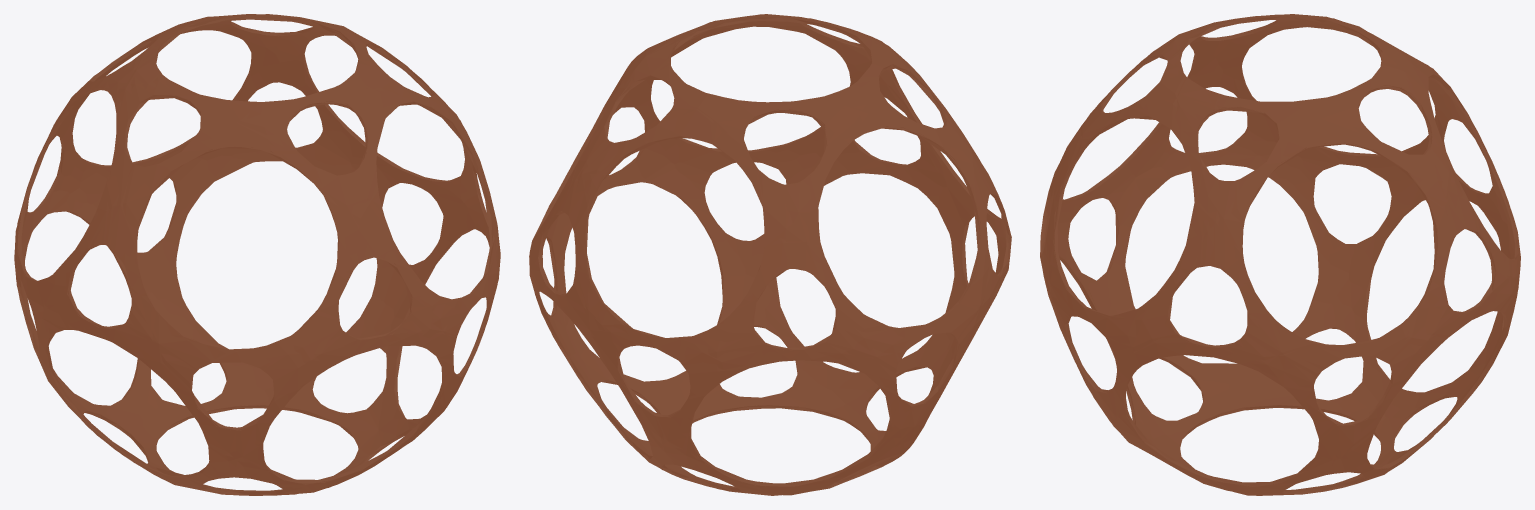
Rendered from planet.glb.
3 renders of one model, left to right at view 1: azimuth 30°, elevation 25°; view 2: azimuth 150°, elevation 25°; view 3: azimuth 270°, elevation 25°, orthographic.
Visible parts, largest first — view 1: Icosphere.008; view 2: Icosphere.008; view 3: Icosphere.008.
Boxes of the visible parts, left/top/right/bottom form: Icosphere.008: left=14, top=14, right=500, bottom=495; Icosphere.008: left=529, top=14, right=1011, bottom=495; Icosphere.008: left=1040, top=14, right=1520, bottom=495.
Bounding box in the file's own units: 6.03 × 5.38 × 5.95.
